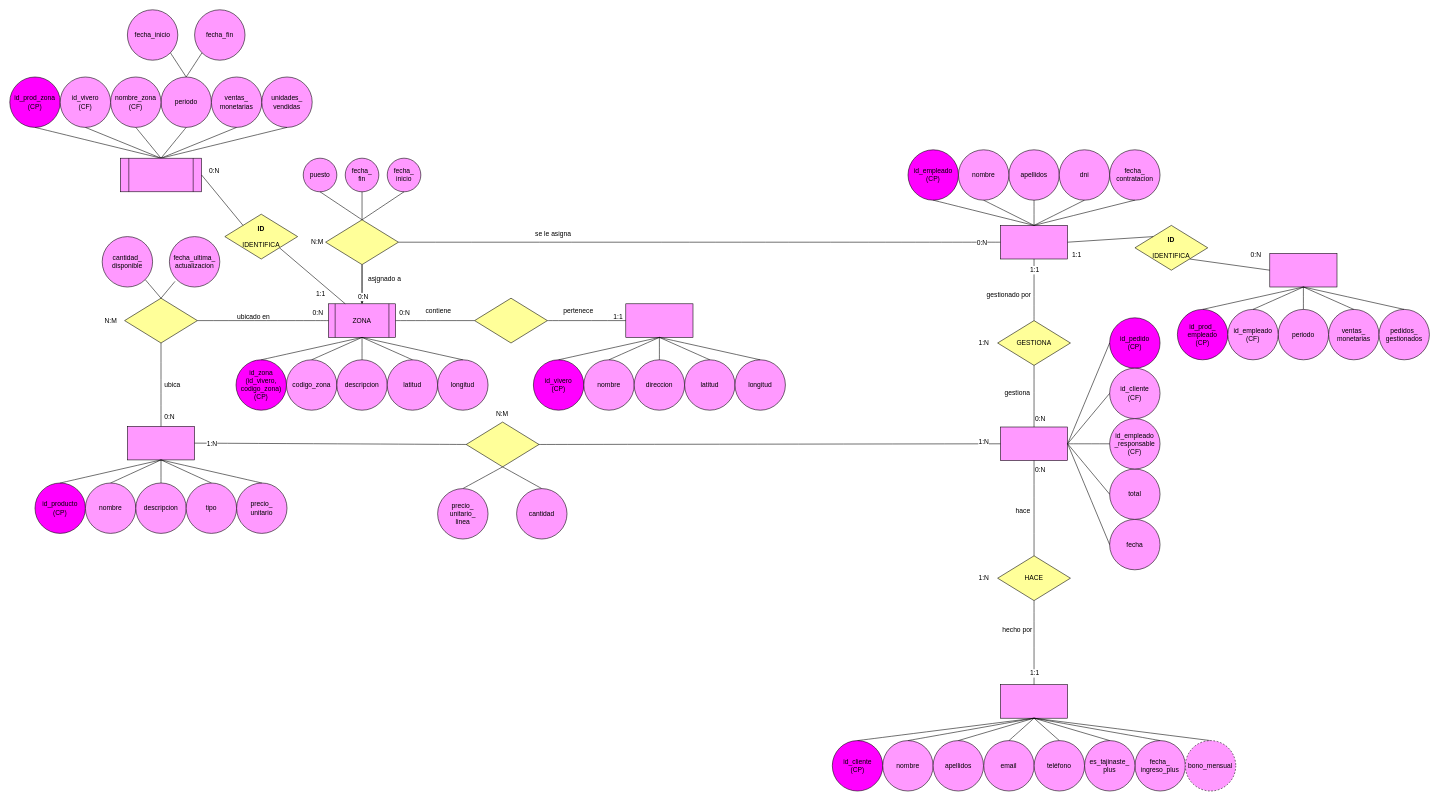
Image size: 1439x801. Some labels were removed from this diagram. The centre of each missing label's shape, as x and y in pixels:
"ASIGNACIÓN" goes at pixel 361 242.
"CLIENTE" goes at pixel 1034 701.
"DETALLE" goes at pixel 502 444.
"EMPLEADO" goes at pixel 1034 242.
"ID CONTIENE" goes at pixel 510 320.
"PEDIDO" goes at pixel 1034 443.
"PRODUCTIVIDAD_ EMPLEADO" goes at pixel 1303 270.
"PRODUCTIVIDAD_ ZONA" goes at pixel 161 175.
"PRODUCTO" goes at pixel 161 443.
"STOCK/ UBICACION" goes at pixel 160 320.
"VIVERO" goes at pixel 659 320.
